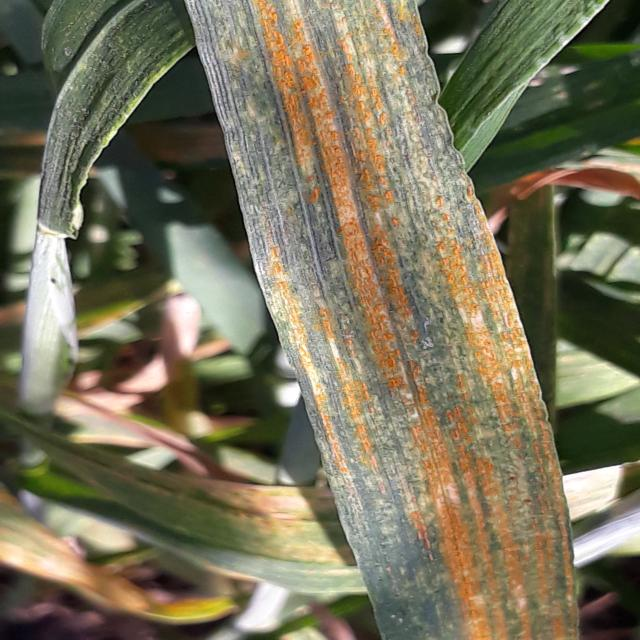yellow_rust: (177, 4, 597, 640), (0, 374, 362, 631), (29, 0, 155, 248), (477, 128, 640, 231)
